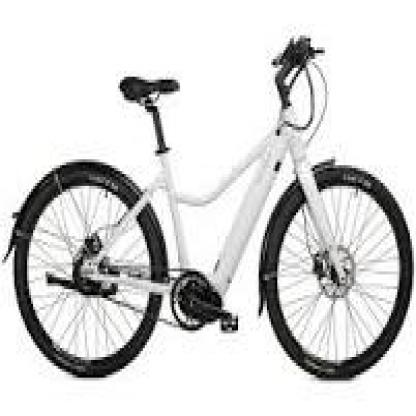Bike: (6, 34, 416, 381)
